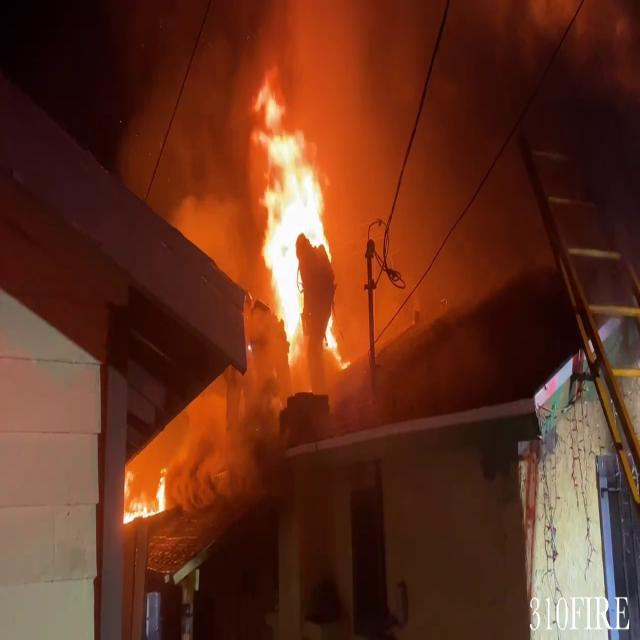Fire: (246, 89, 340, 364), (120, 464, 171, 530)
Smoke: (326, 6, 640, 358)
